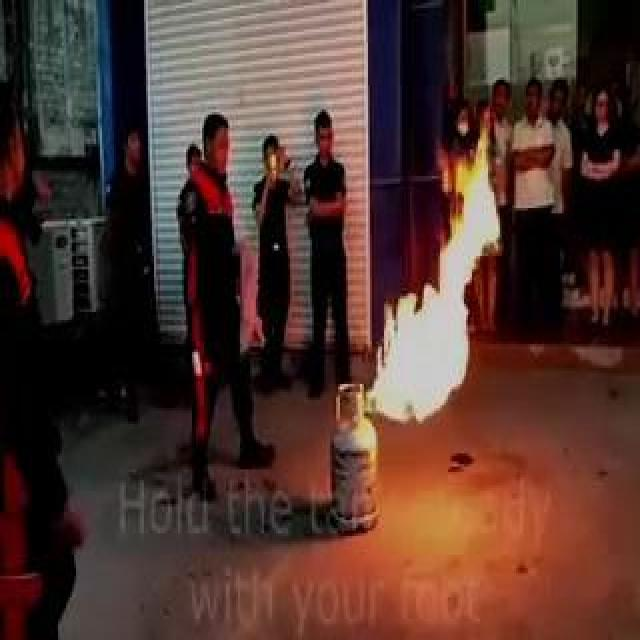Fire: (361, 84, 511, 423)
